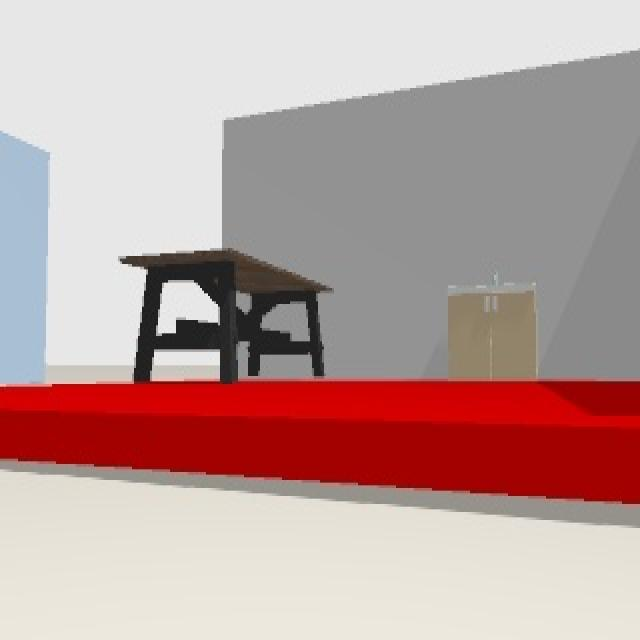dining: (120, 246, 336, 382)
